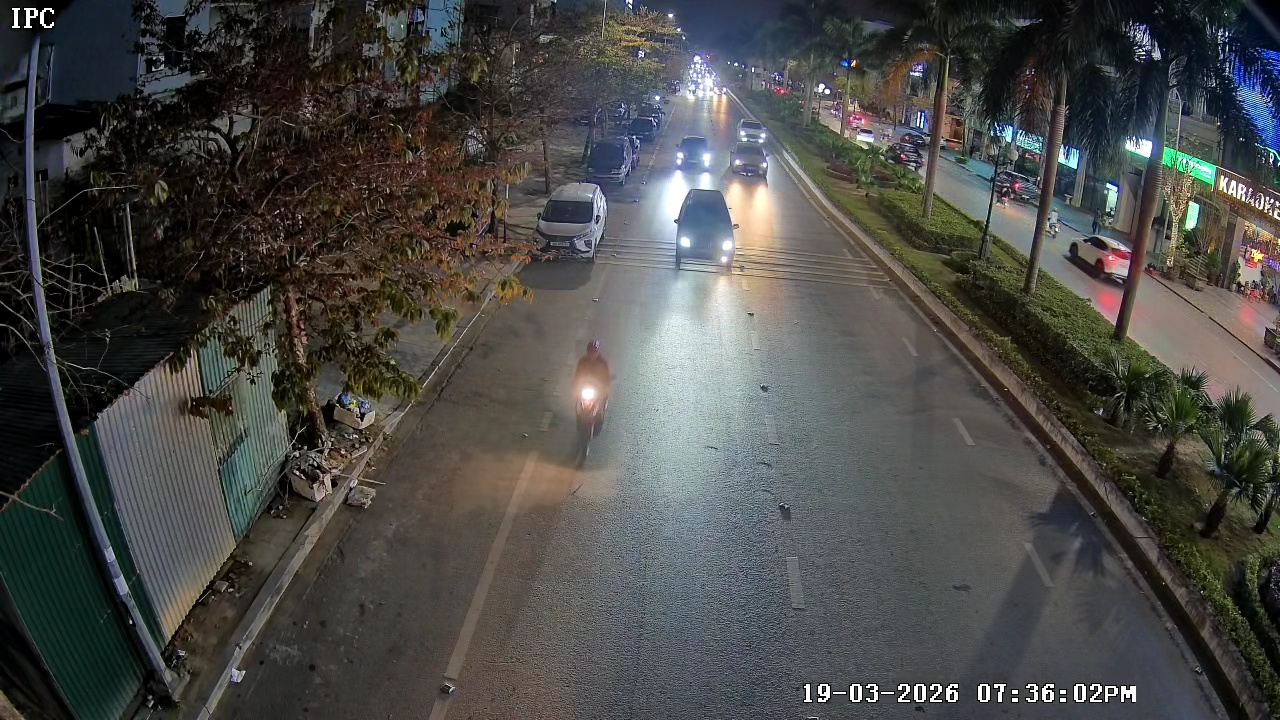car: (532, 180, 610, 263), (671, 185, 740, 271), (584, 130, 642, 189), (727, 138, 772, 185), (674, 133, 715, 183), (732, 118, 768, 146)
motorbike: (570, 338, 616, 451)
